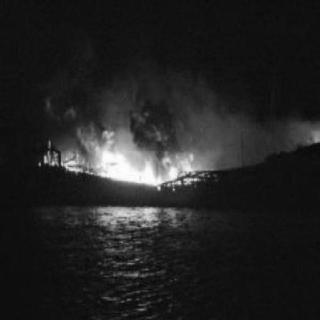Smoke: (59, 83, 111, 137)
